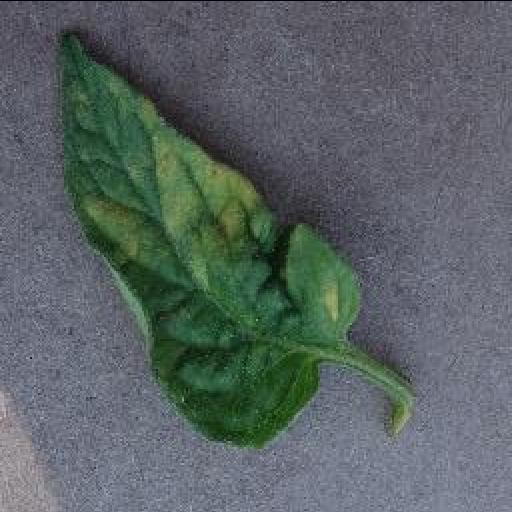disease_tomato: (57, 32, 371, 446)
